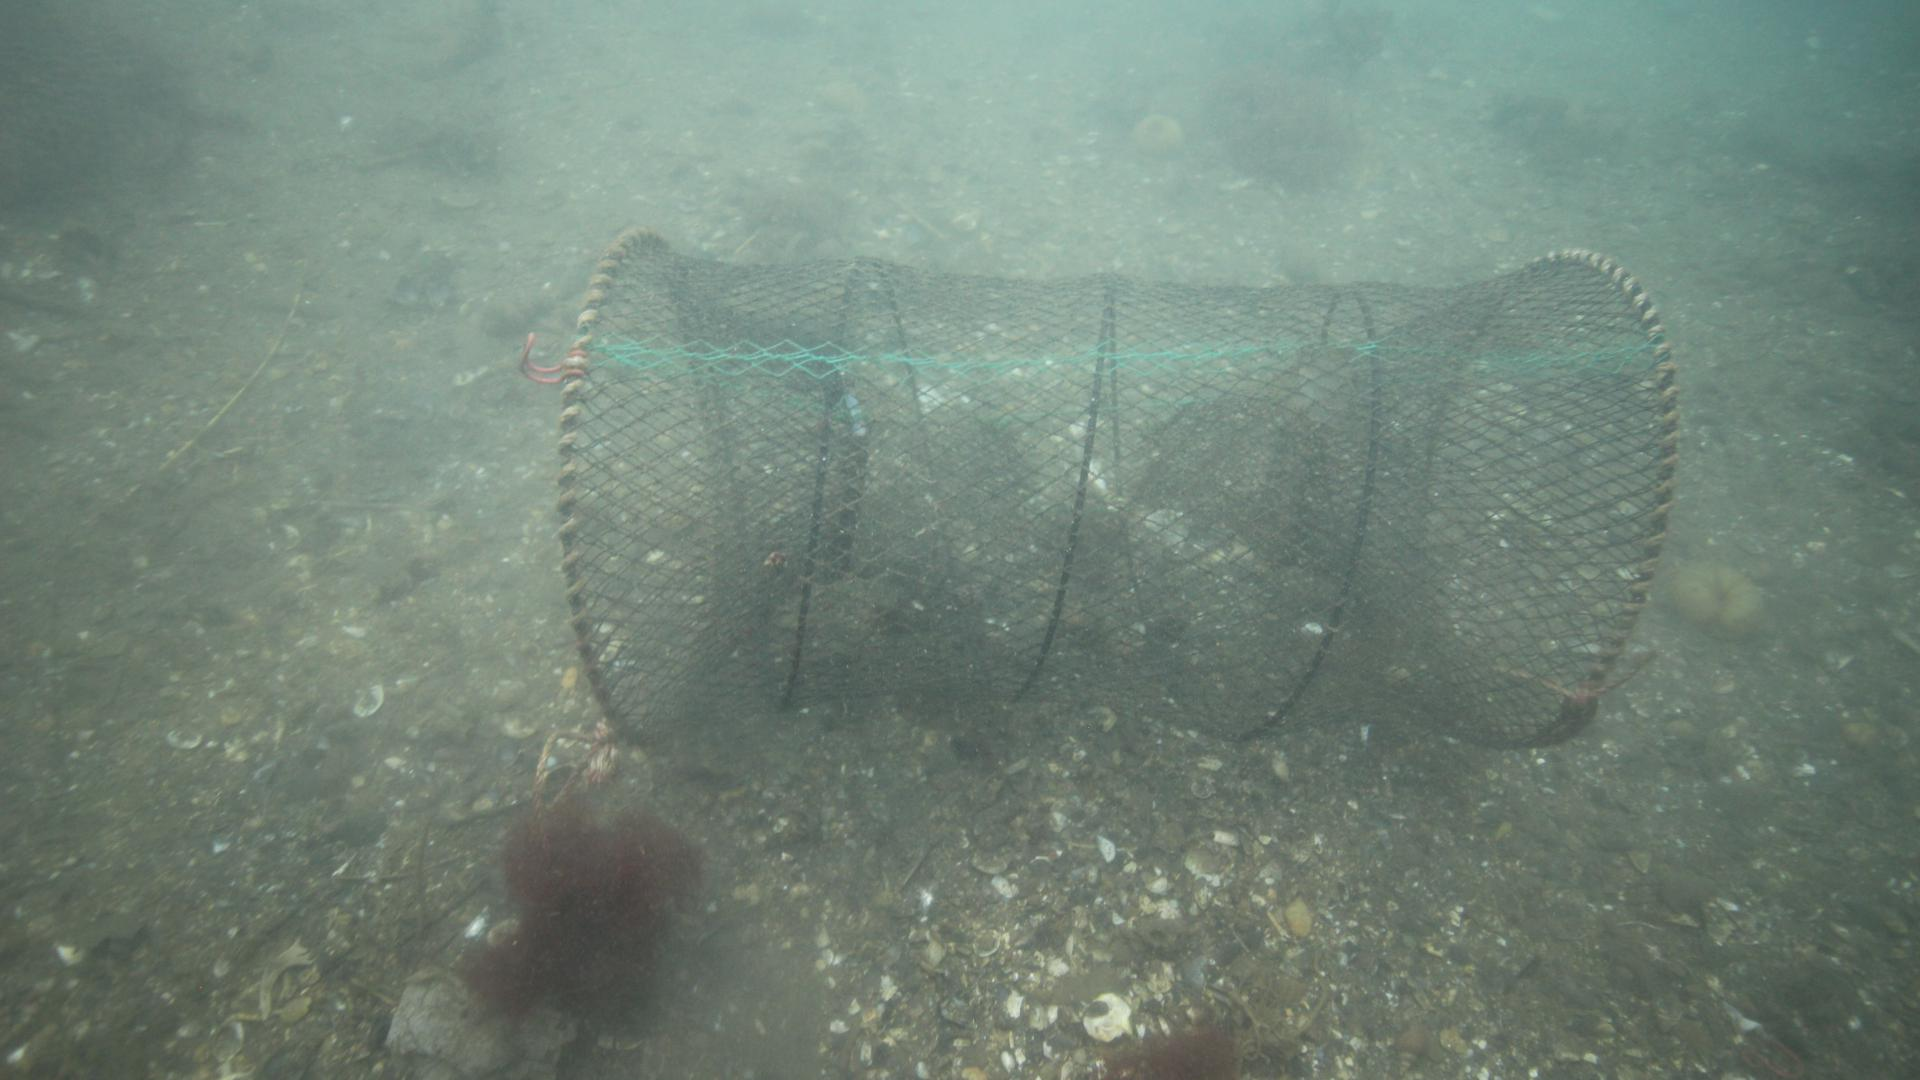spring fish trap: (551, 222, 1688, 760)
